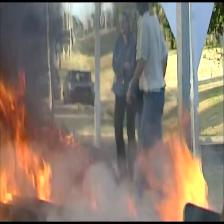fire: (0, 57, 111, 224), (135, 109, 224, 220)
